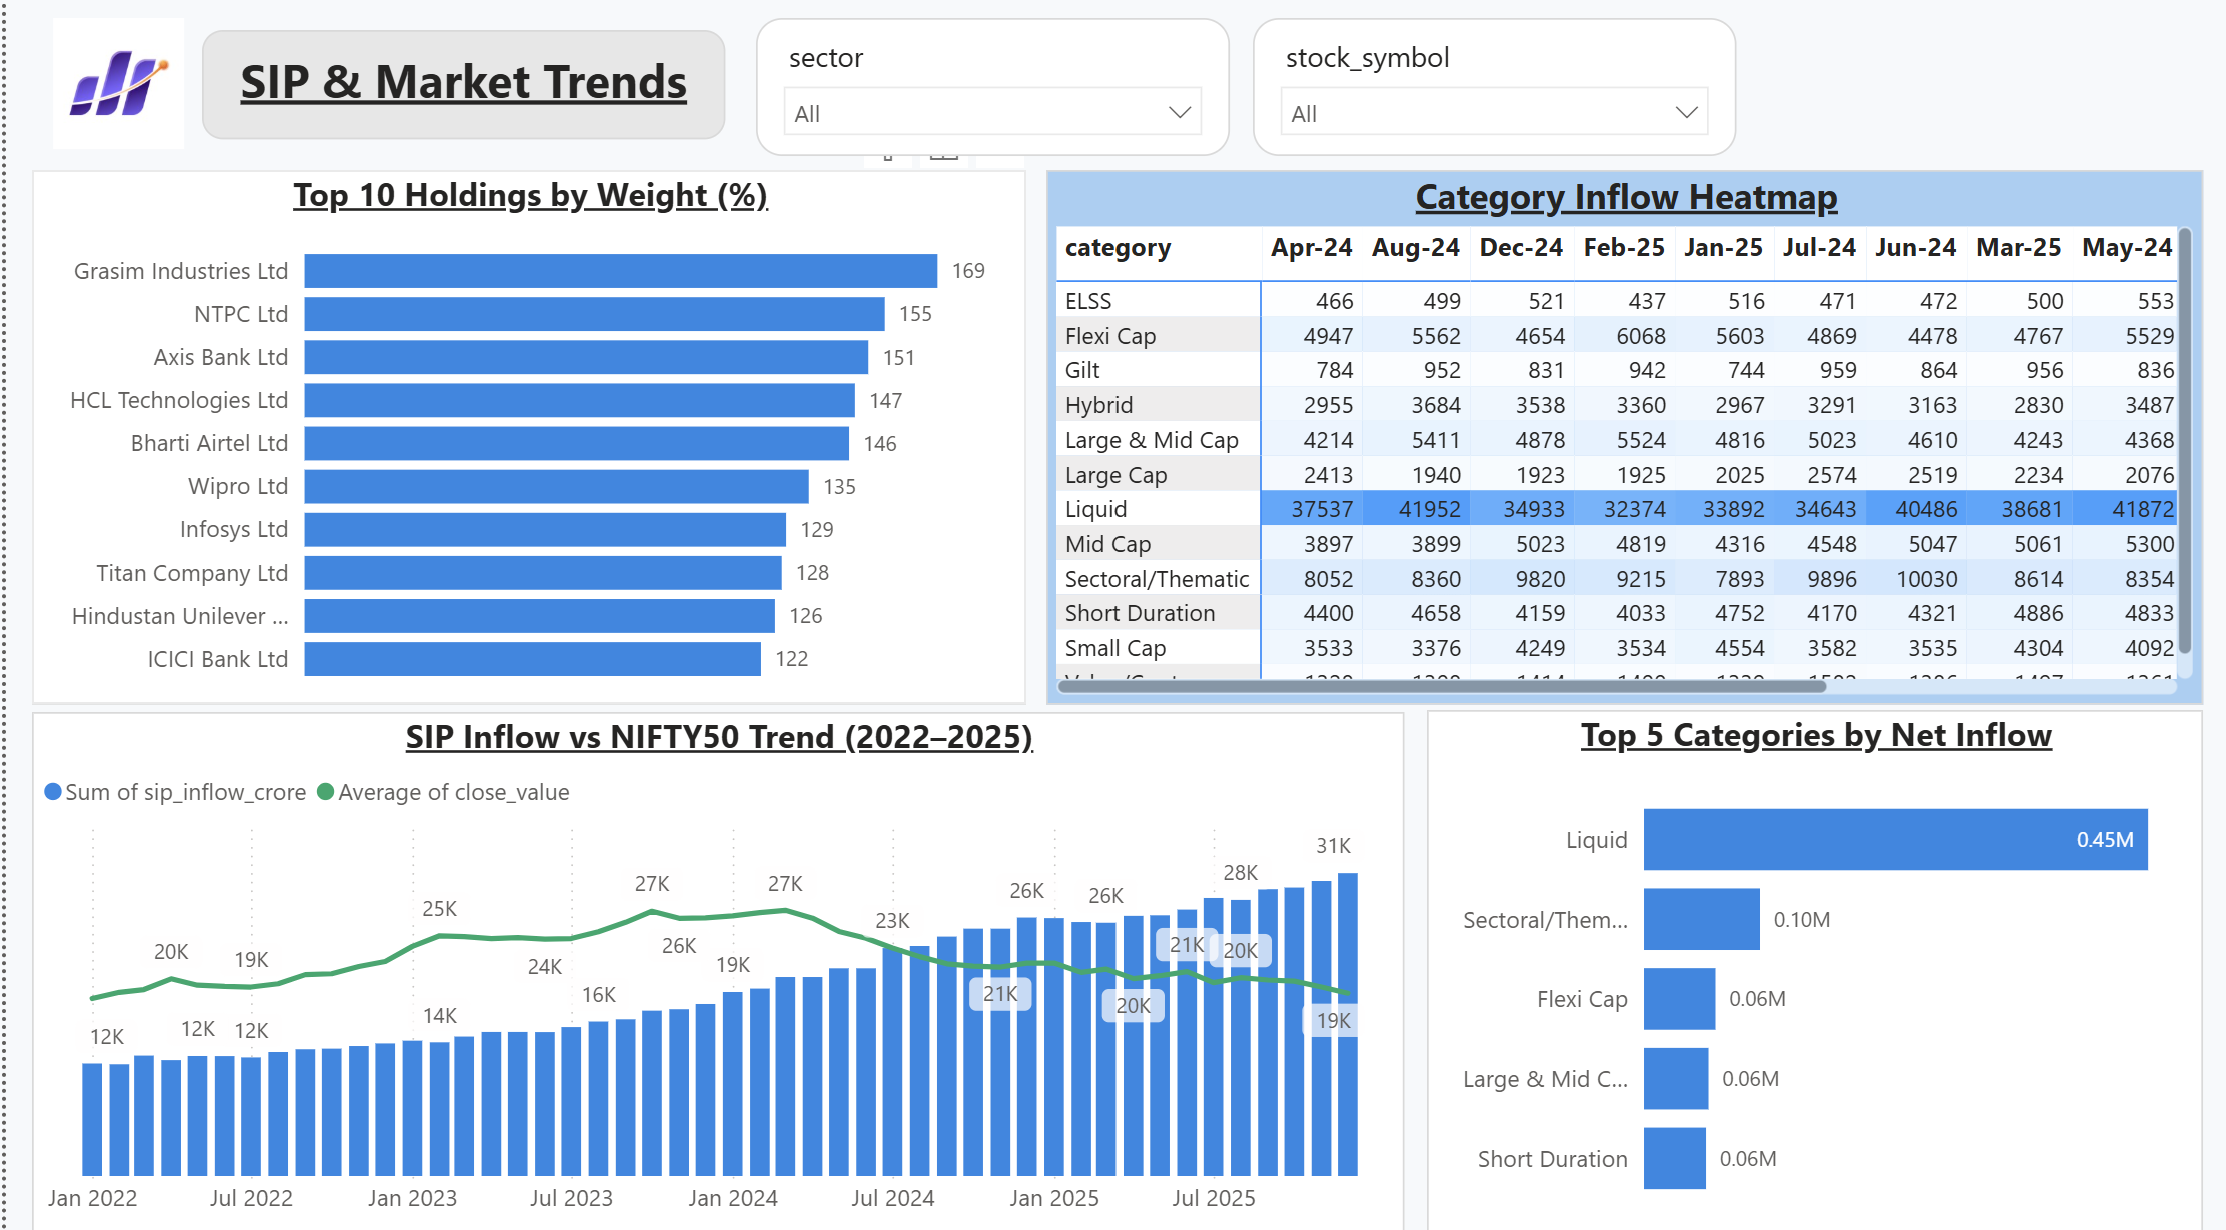

What the dashboard file says about the page in this screenshot:
{"tool":"powerbi","page":{"name":"SIP & Market Trends","canvas":[1280,720],"ordinal":3},"visuals":[{"type":"barChart","title":"Top 5 Categories by Net Inflow","fields":{"Y":["Sum(05_category_inflows_cleaned.net_inflow_crore)"],"Category":["05_category_inflows_cleaned.category"]},"box":[817.6,418,447.1,301.6],"z":0},{"type":"barChart","title":"Top 10 Holdings by Weight (%)","fields":{"Category":["09_portfolio_holdings_cleaned.stock_name"],"Y":["Sum(09_portfolio_holdings_cleaned.weight_pct)"]},"box":[15.3,107.2,572.6,307.8],"z":1000},{"type":"slicer","fields":{"Values":["09_portfolio_holdings_cleaned.sector"]},"box":[431.8,19.9,272.5,79.6],"z":2000},{"type":"slicer","fields":{"Values":["09_portfolio_holdings_cleaned.stock_symbol"]},"box":[718.1,19.9,278.7,79.6],"z":3000},{"type":"textbox","box":[113.3,26,301.6,62.8],"z":4000},{"type":"image","box":[16.1,19.3,98,75.5],"z":5000},{"type":"lineClusteredColumnComboChart","title":"SIP Inflow vs NIFTY50 Trend (2022–2025)","fields":{"Category":["04_monthly_sip_inflows_cleaned.month"],"Y":["Sum(04_monthly_sip_inflows_cleaned.sip_inflow_crore)"],"Y2":["Avg(10_benchmark_indices_cleaned.close_value)"]},"box":[15.3,419.5,790,300.1],"z":6000},{"type":"pivotTable","title":"Category Inflow Heatmap","fields":{"Values":["Sum(05_category_inflows_cleaned.net_inflow_crore)"],"Columns":["05_category_inflows_cleaned.Month_Year"],"Rows":["05_category_inflows_cleaned.category"]},"box":[598.7,107.2,666,307.8],"z":7000}]}

Visuals, with their boxes in screenshot pixels (x1, y1, x2, y2), scaled from the page's 1280x720 canvas onto the 2226x1230 screenshot:
"Top 5 Categories by Net Inflow" barChart: detection(1422, 714, 2199, 1229)
"Top 10 Holdings by Weight (%)" barChart: detection(27, 183, 1022, 709)
slicer - 09_portfolio_holdings_cleaned.sector: detection(751, 34, 1225, 170)
slicer - 09_portfolio_holdings_cleaned.stock_symbol: detection(1249, 34, 1733, 170)
textbox: detection(197, 44, 722, 152)
image: detection(28, 33, 198, 162)
"SIP Inflow vs NIFTY50 Trend (2022–2025)" lineClusteredColumnComboChart: detection(27, 717, 1400, 1229)
"Category Inflow Heatmap" pivotTable: detection(1041, 183, 2199, 709)
